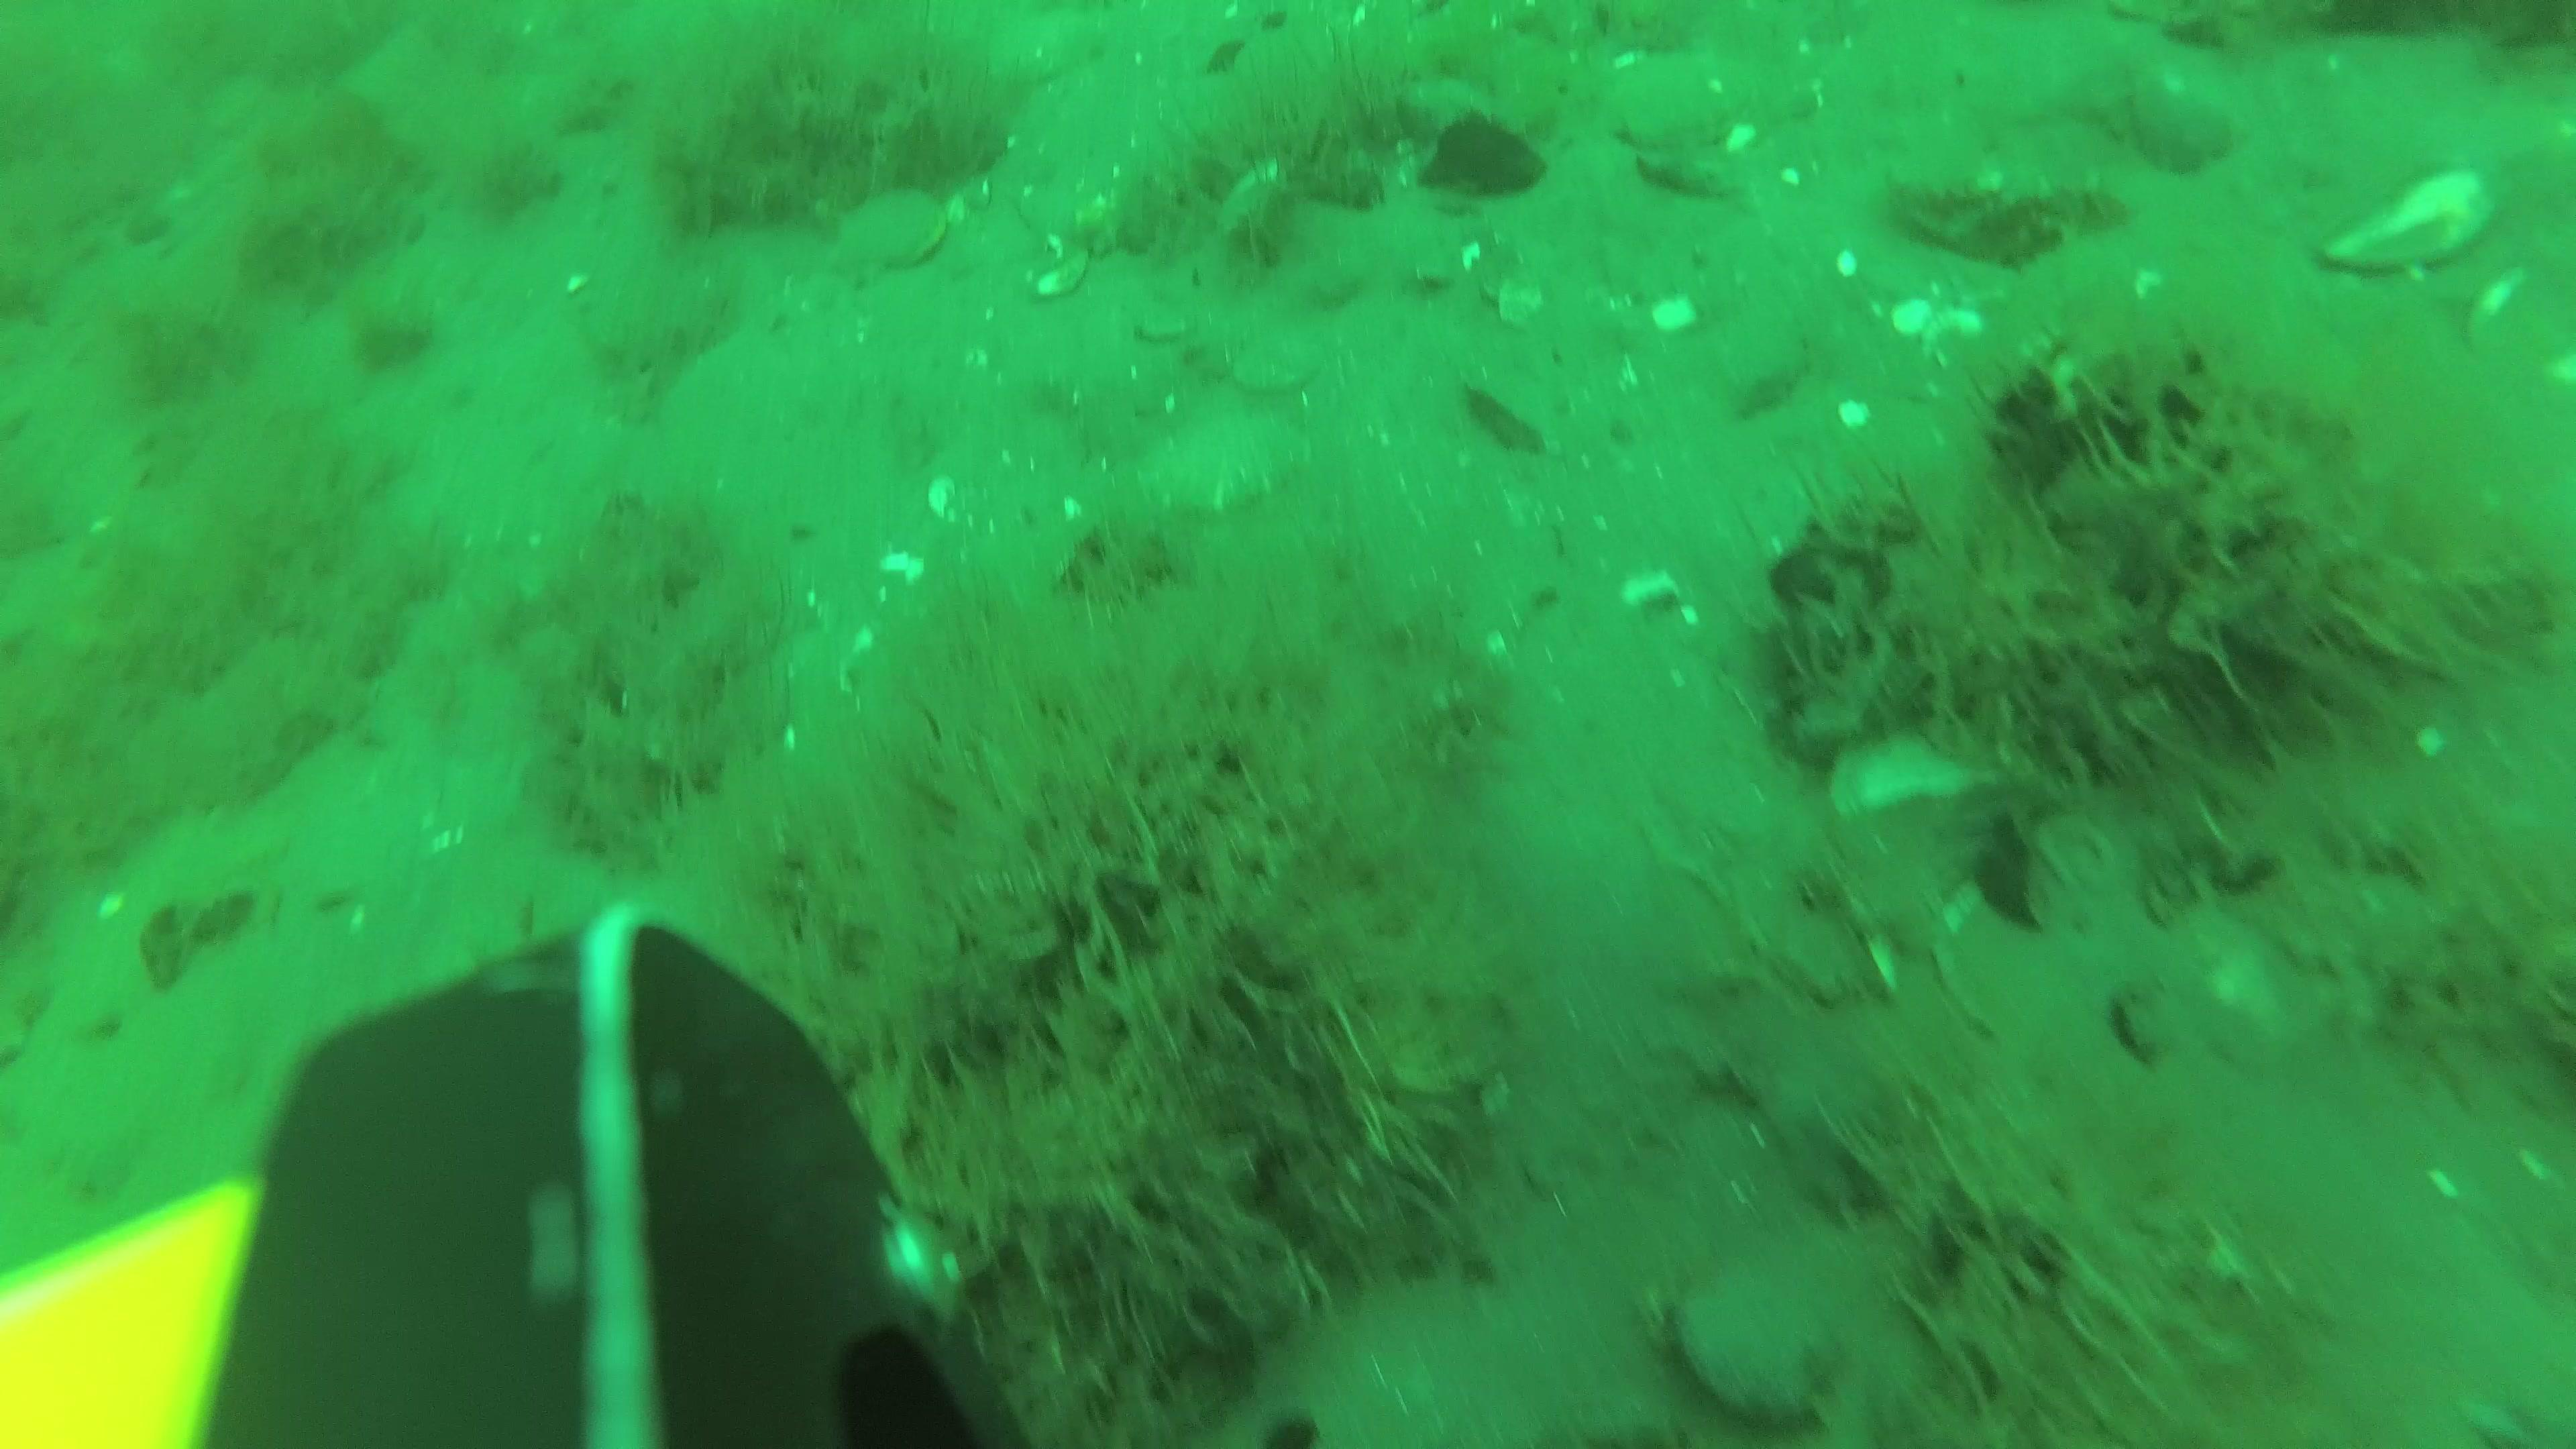scallop: (1145, 416, 1318, 518), (1599, 50, 1753, 138), (839, 186, 943, 283), (1233, 333, 1322, 393)
